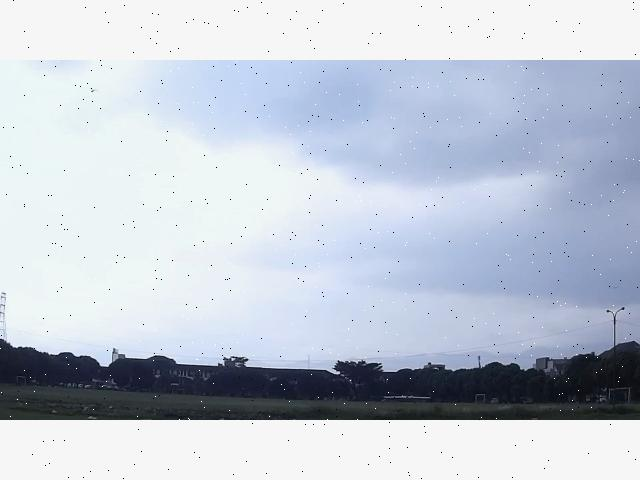Anti-Drone: (380, 389, 438, 405)
